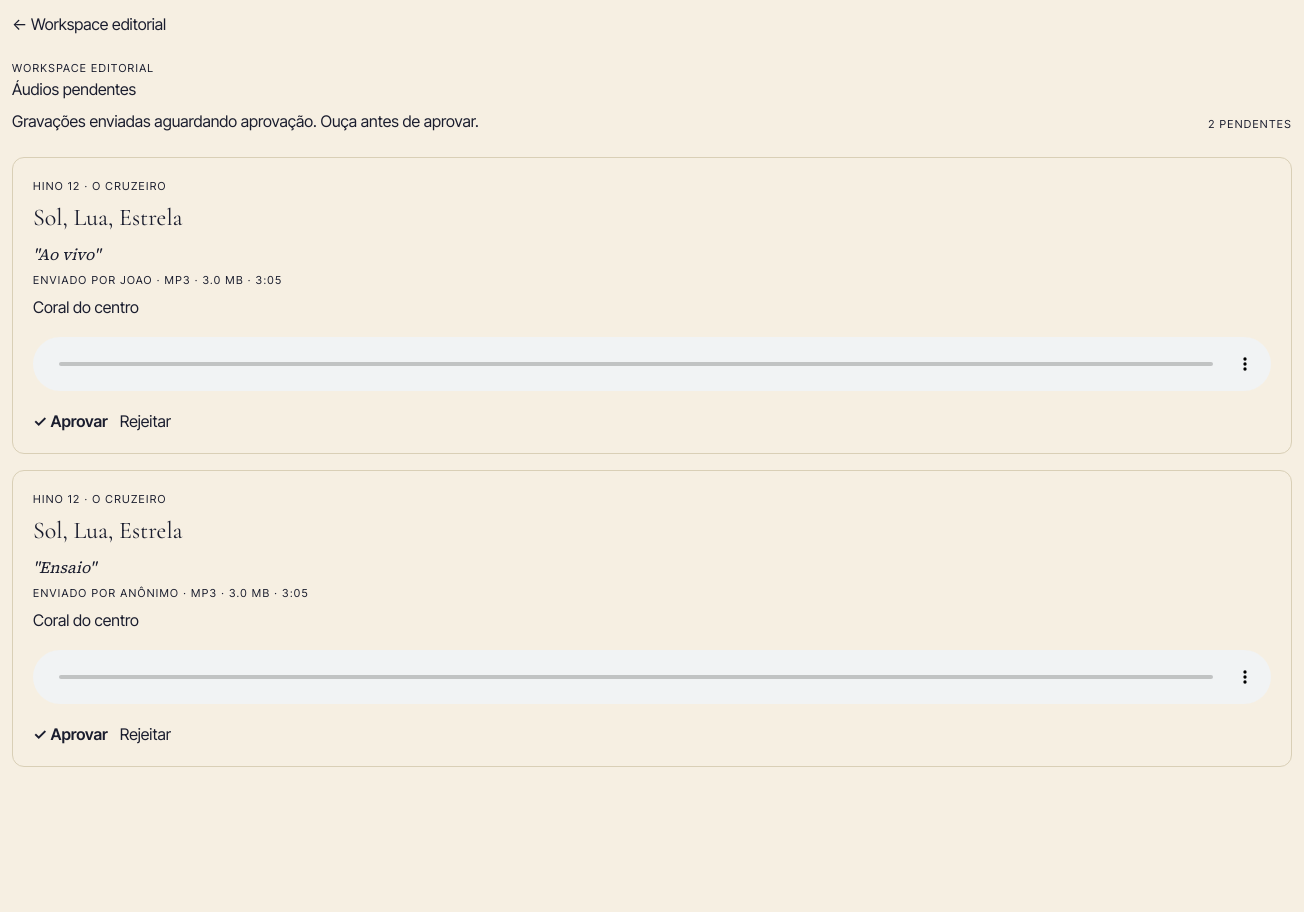
/editor/audios/pendentes — aprovar (5D.15) › faz rollback (item volta) e mostra o erro quando o servidor nega
Click the button with test id "approve-a1" at (70, 420), box [33, 408, 108, 432]
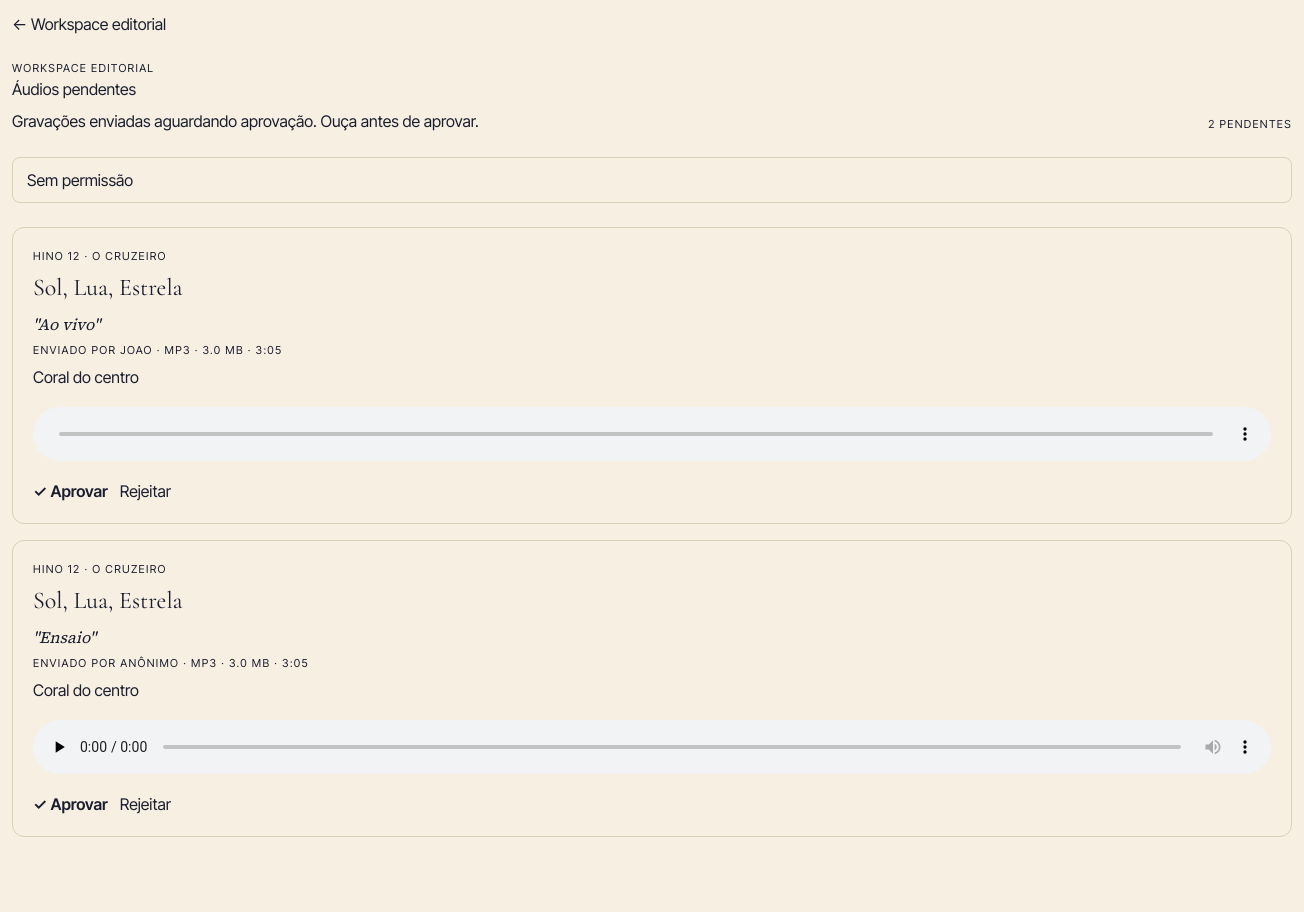
Check: the number of list items with test id "pending-audio-item" is 2, box [12, 226, 1292, 524]; [12, 540, 1292, 836]
Check: the message with test id "queue-error" reads "Sem permissão", box [27, 170, 133, 190]
